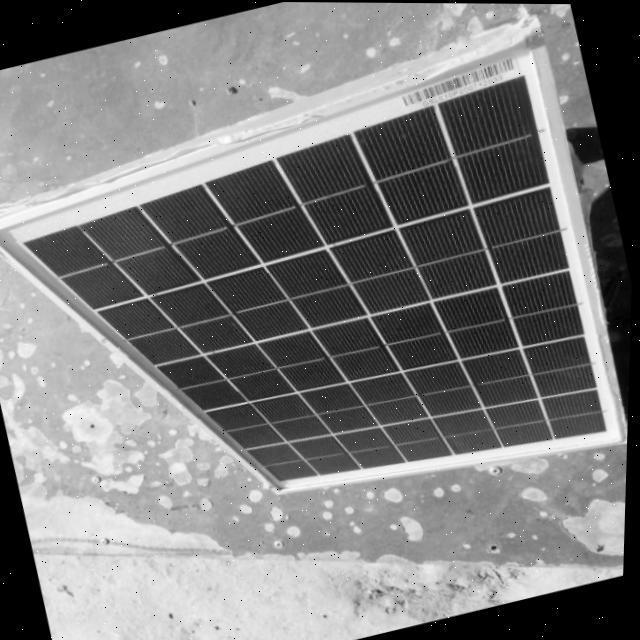Normal Solar Panel: (0, 32, 639, 579)
